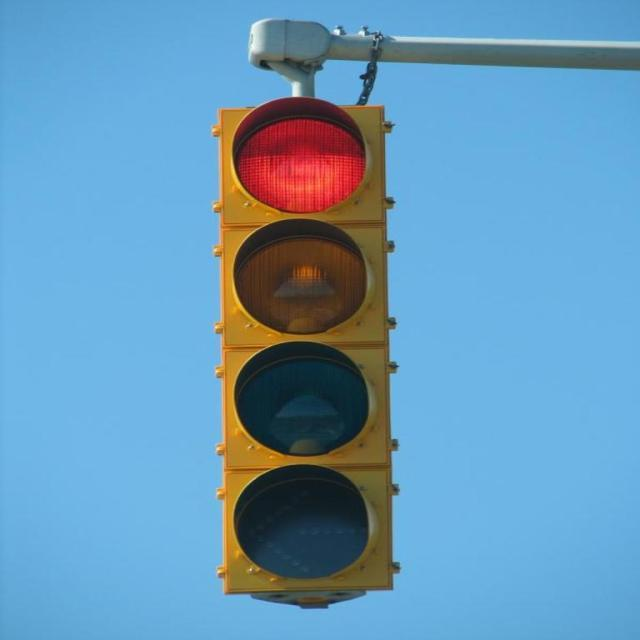traffic light: (214, 98, 396, 608)
